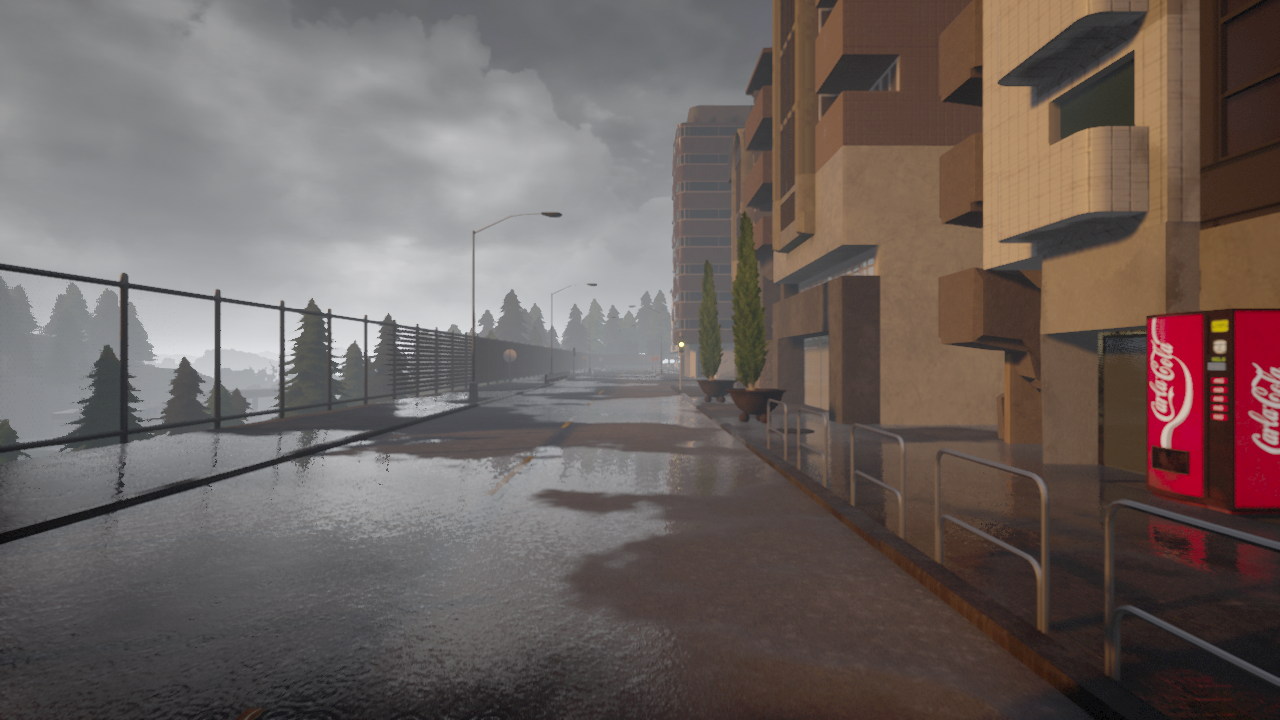yellow: (678, 336, 685, 354)
